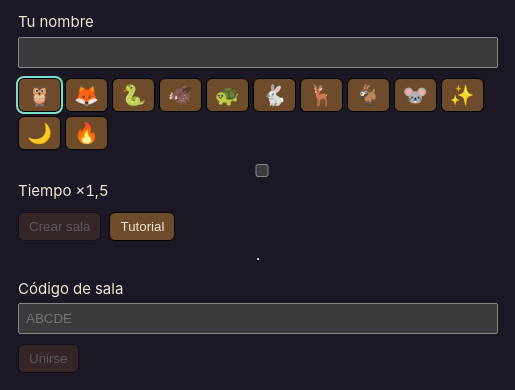
Test: WP-13 · Home › exige nombre antes de crear sala y ofrece el tutorial
Expected: the button "Crear sala" is disabled, top-left (18, 212), bottom-right (102, 240)
Step 1. Type "Iker" into the field labelled "Tu nombre" → (258, 52), box top-left (18, 37), bottom-right (498, 68)
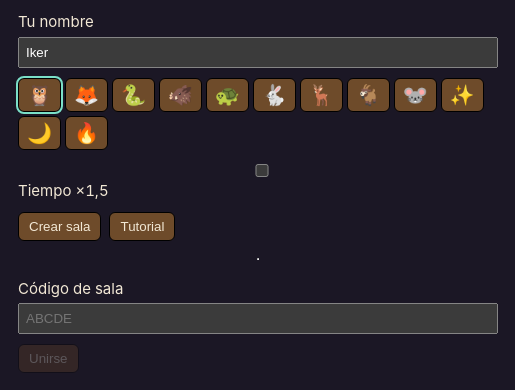
Expected: the button "Tutorial" is shown, top-left (110, 212), bottom-right (176, 240)
Result: the button "Crear sala" is enabled at top-left (18, 212), bottom-right (102, 240)
